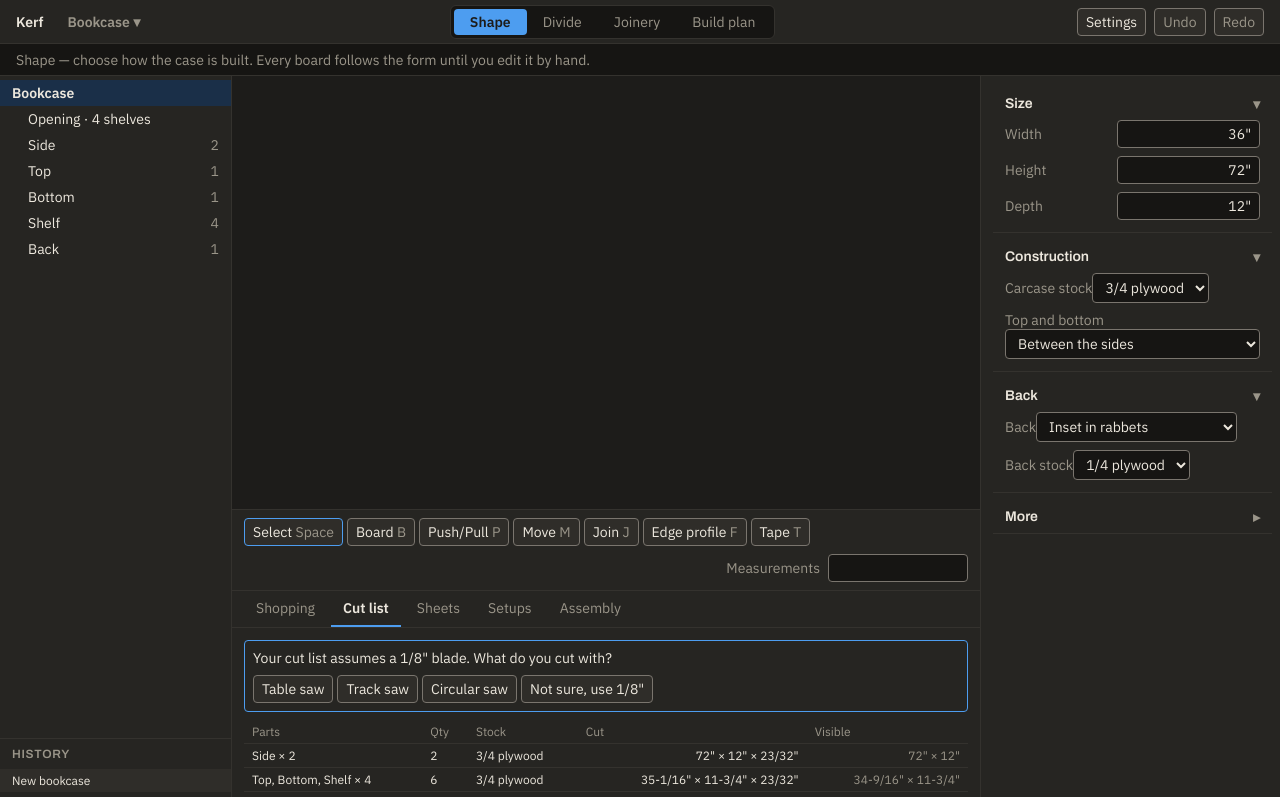
<TopBar> Kerf button and project menu › renames in place: the new name is in the top bar and in the library
This screenshot has width=1280, height=797.
Click the button "Bookcase ▾": point(104, 22) [60, 8, 148, 34]
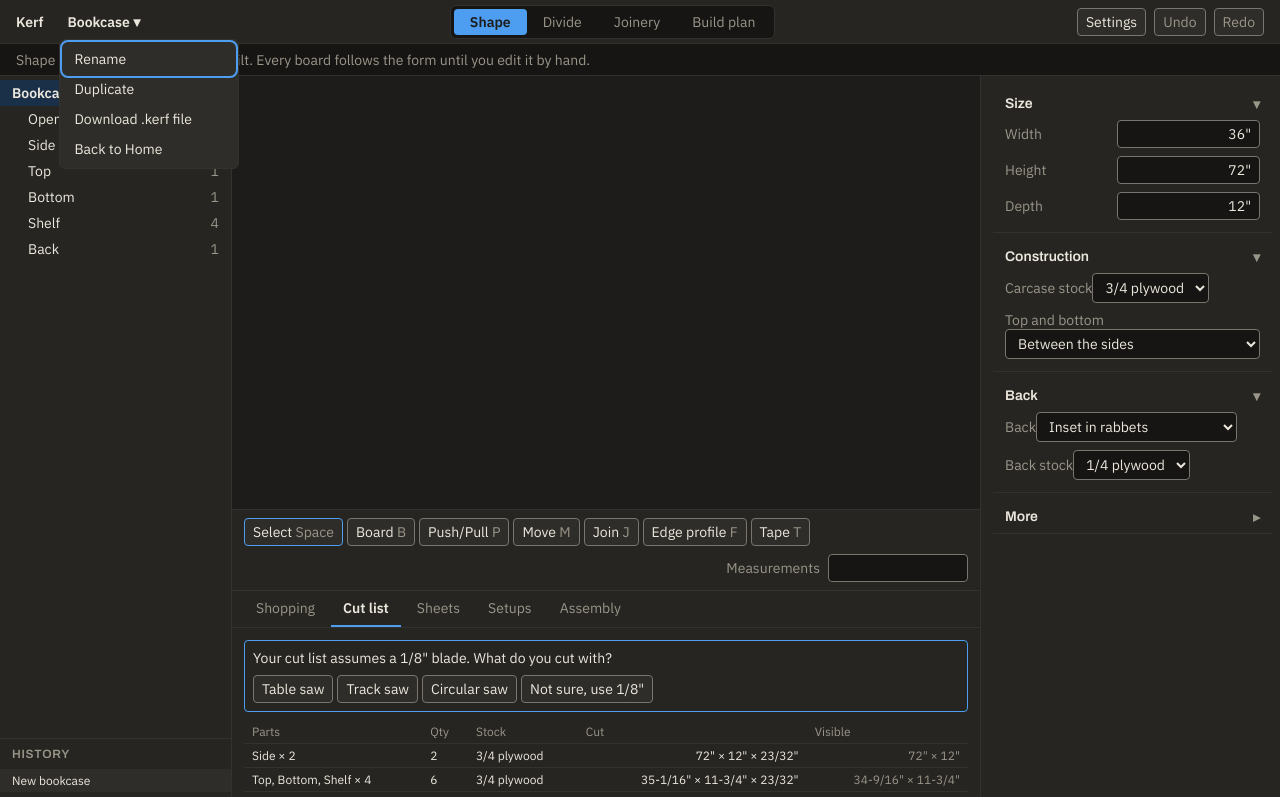
Click the menu item "Rename": point(150, 58) [64, 44, 234, 74]
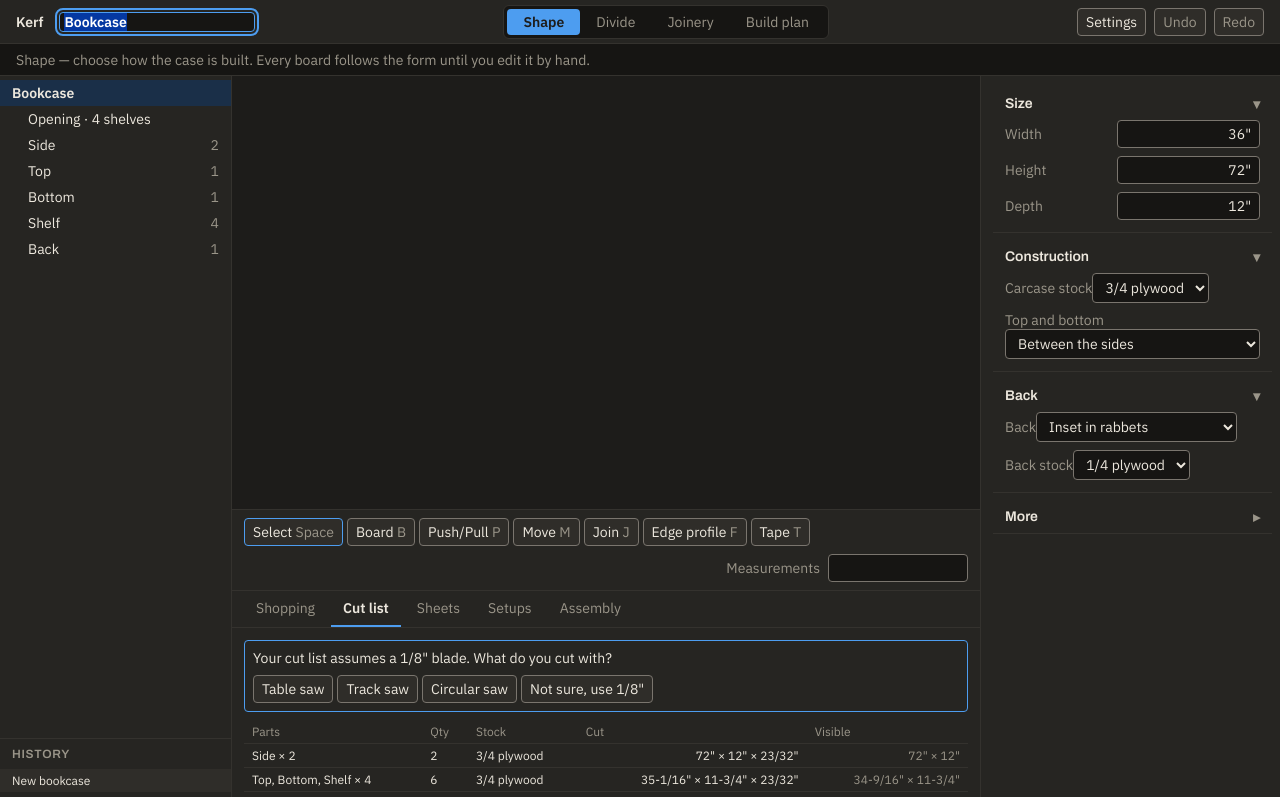
Replace the text in the field named "Name" with "Hall shelves": point(158, 22) [60, 12, 256, 32]
Then press Enter
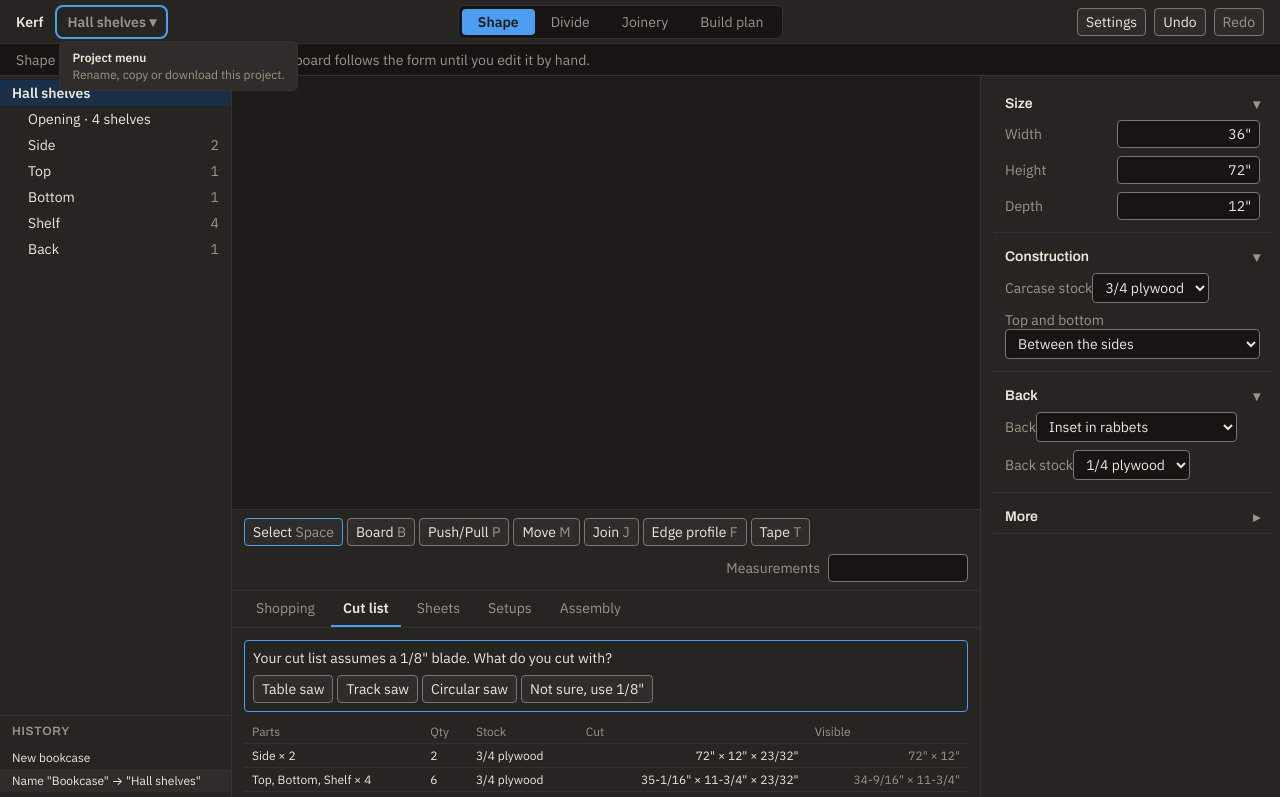
Expected: the button "Hall shelves ▾" is shown, [60, 8, 164, 34]
